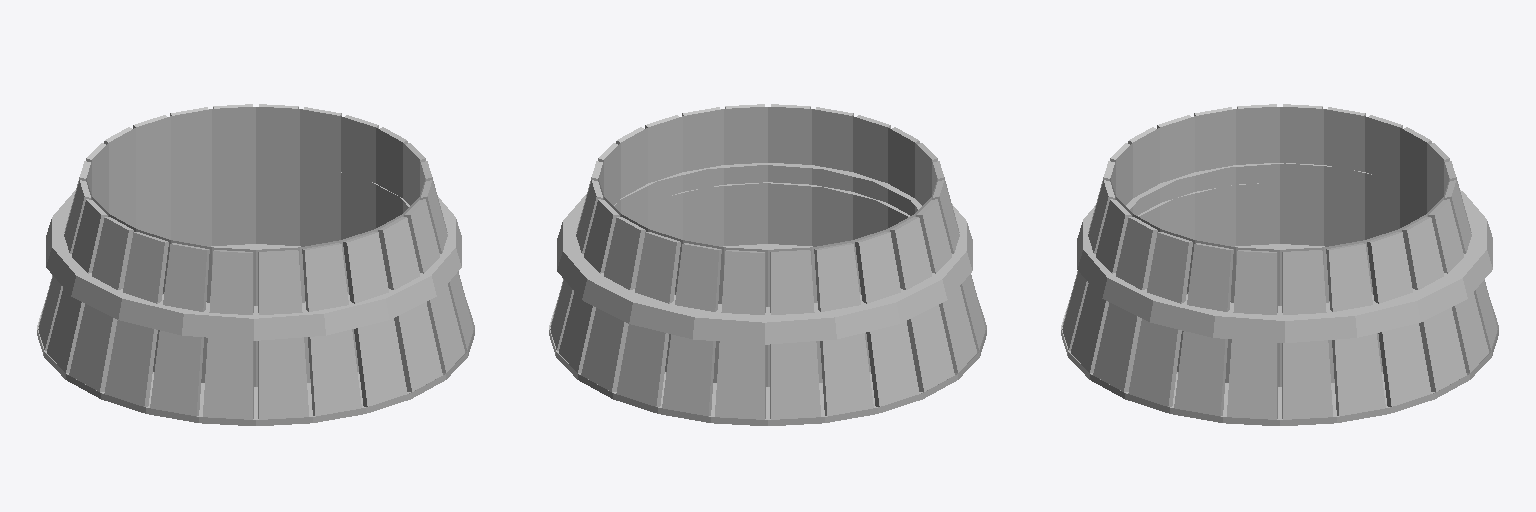
Rendered from zuber.obj.
3 renders of one model, left to right at view 1: azimuth 30°, elevation 25°; view 2: azimuth 150°, elevation 25°; view 3: azimuth 270°, elevation 25°, orthographic.
Visible parts, largest first — view 1: Cone001, Cylinder001; view 2: Cone001, Cylinder001; view 3: Cone001, Cylinder001.
Part boxes in pixels (left/top/right/bottom): Cone001: left=37, top=104, right=474, bottom=425; Cylinder001: left=46, top=172, right=461, bottom=340; Cone001: left=549, top=104, right=986, bottom=425; Cylinder001: left=557, top=163, right=972, bottom=344; Cone001: left=1061, top=104, right=1498, bottom=425; Cylinder001: left=1077, top=163, right=1492, bottom=342.
Bounding box in the file's own units: 40.74 × 15.95 × 40.74.